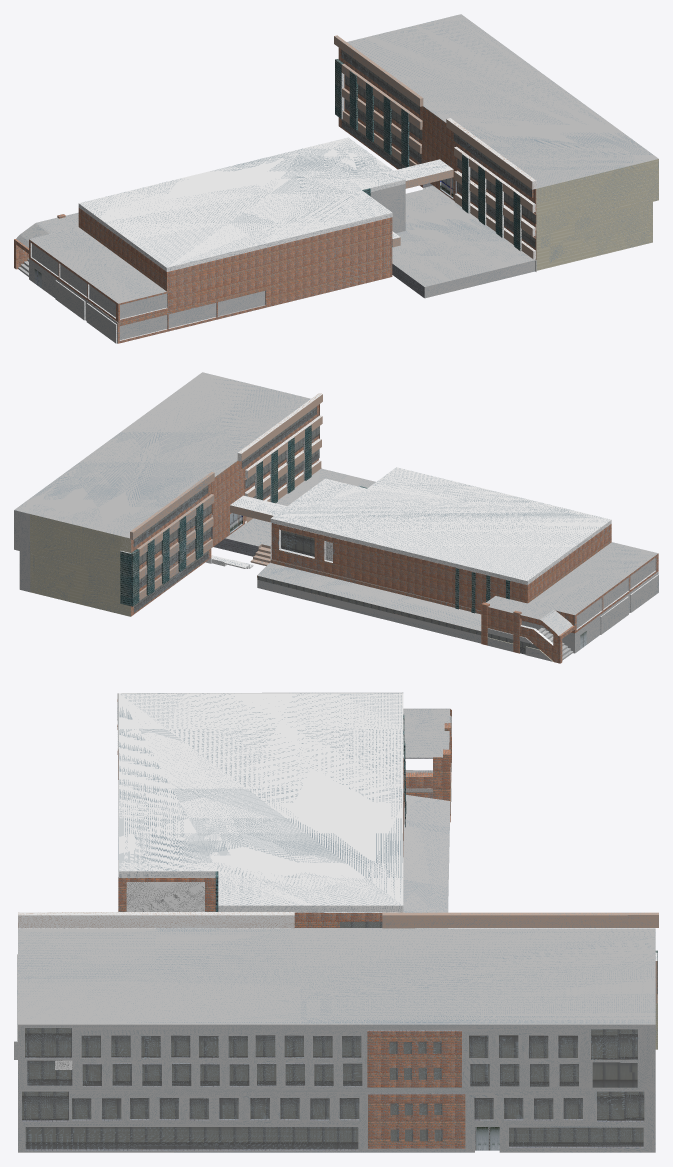
The model's file is refectory2.dae.
3 renders of one model, top to bottom at view 1: azimuth 30°, elevation 25°; view 2: azimuth 150°, elevation 25°; view 3: azimuth 270°, elevation 25°, orthographic. The views are drawn at different scales.
Parts seen in each view (by area): view 1: SketchUp (×29); view 2: SketchUp (×36); view 3: SketchUp (×22).
Boxes of the visible parts, x1=… form: SketchUp (×29): x1=14, y1=14, x2=658, y2=343; SketchUp (×36): x1=14, y1=372, x2=658, y2=663; SketchUp (×22): x1=18, y1=693, x2=658, y2=1152.
Bounding box in the file's own units: 2543 × 1719 × 457.
